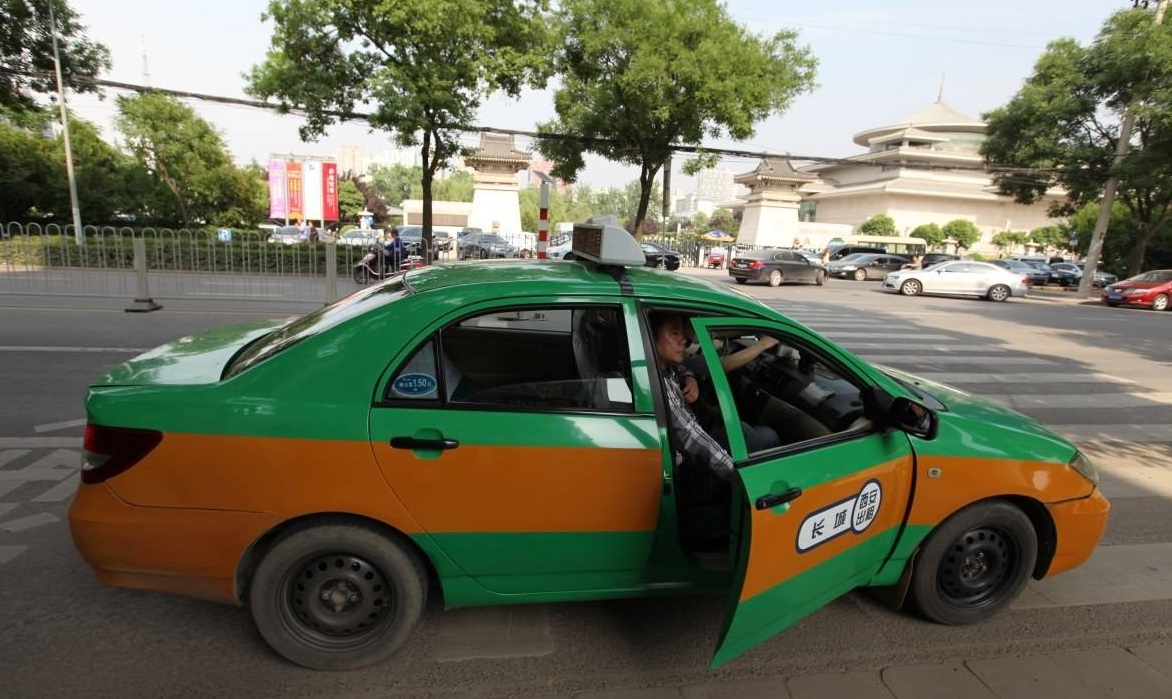taxi: (67, 218, 1109, 673)
